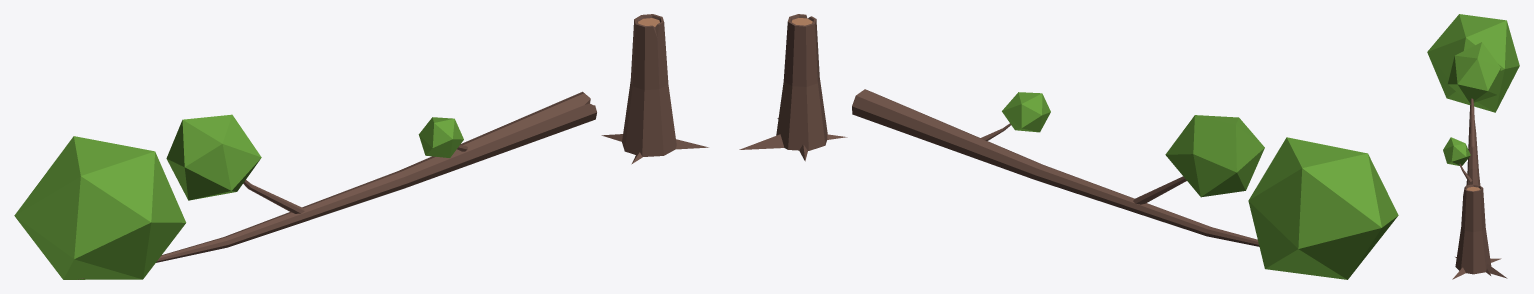
Rendered from FallenTree_03.fbx.
The picture shows the model from 3 angles, left to right: view 1: azimuth 30°, elevation 25°; view 2: azimuth 150°, elevation 25°; view 3: azimuth 270°, elevation 25°; orthographic projection. The views are drawn at different scales.
Parts seen in each view (by area): view 1: FallenTree_03; view 2: FallenTree_03; view 3: FallenTree_03.
Boxes of the visible parts, <box> form: FallenTree_03: <box>14,14,708,279</box>; FallenTree_03: <box>739,14,1398,279</box>; FallenTree_03: <box>1427,14,1519,279</box>.
Bounding box in the file's own units: 1097 × 210 × 211.
